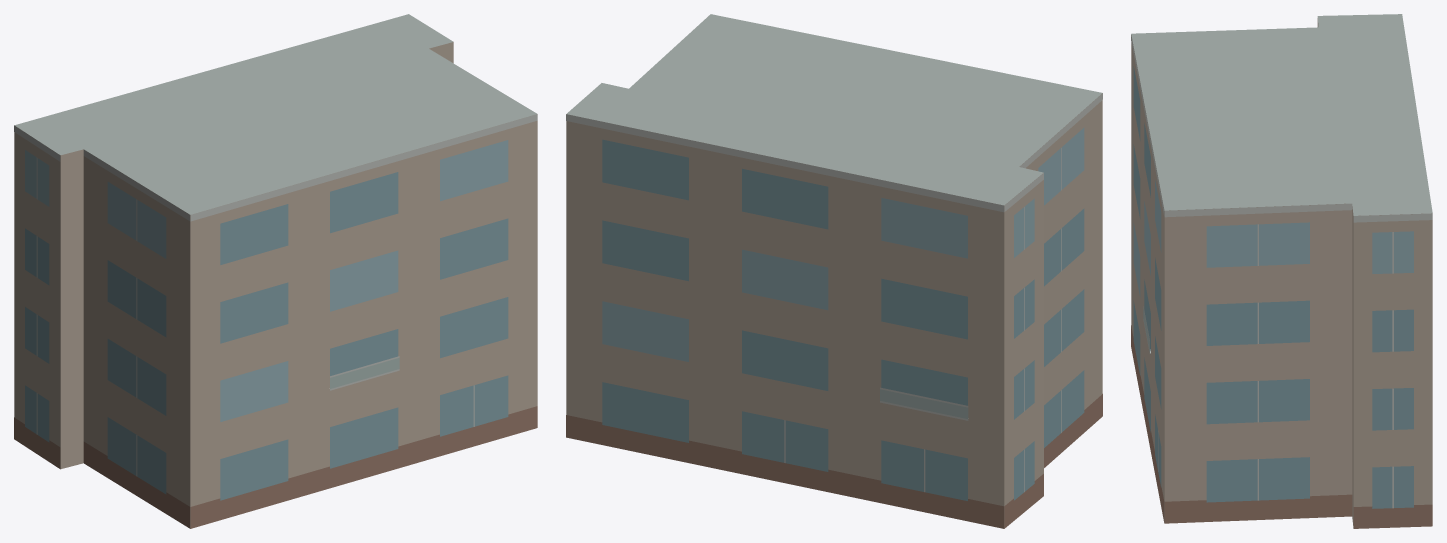
The model's file is survey-upis-32934022.glb.
3 renders of one model, left to right at view 1: azimuth 30°, elevation 25°; view 2: azimuth 150°, elevation 25°; view 3: azimuth 270°, elevation 25°, orthographic. The views are drawn at different scales.
Visible parts, largest first — view 1: survey-upis-32934022.tmp; view 2: survey-upis-32934022.tmp; view 3: survey-upis-32934022.tmp.
Part boxes in pixels (box(x1,y1,x2,y2)): survey-upis-32934022.tmp: box(14, 14, 537, 528); survey-upis-32934022.tmp: box(566, 14, 1102, 528); survey-upis-32934022.tmp: box(1131, 14, 1432, 528).
Size of the model in its own units: 15.92 by 11.5 by 10.06.
